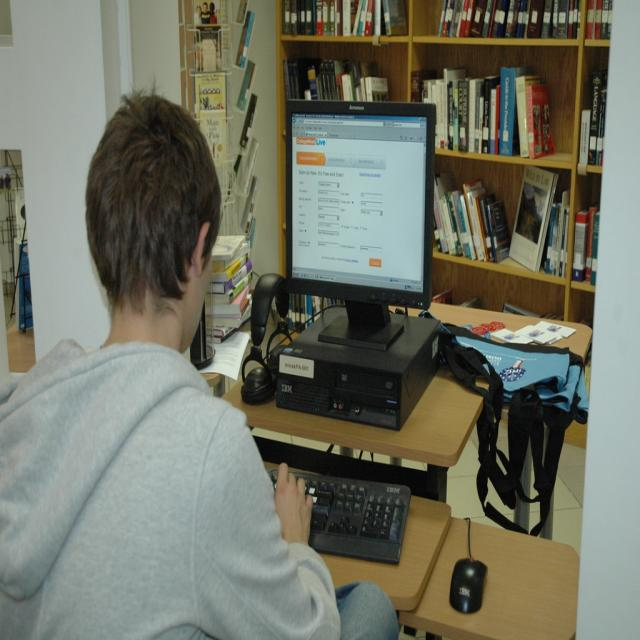desk: (266, 462, 576, 637)
keyboard: (267, 462, 411, 566)
mouse: (449, 556, 488, 615)
person: (2, 86, 402, 636)
tv: (284, 101, 437, 314)
